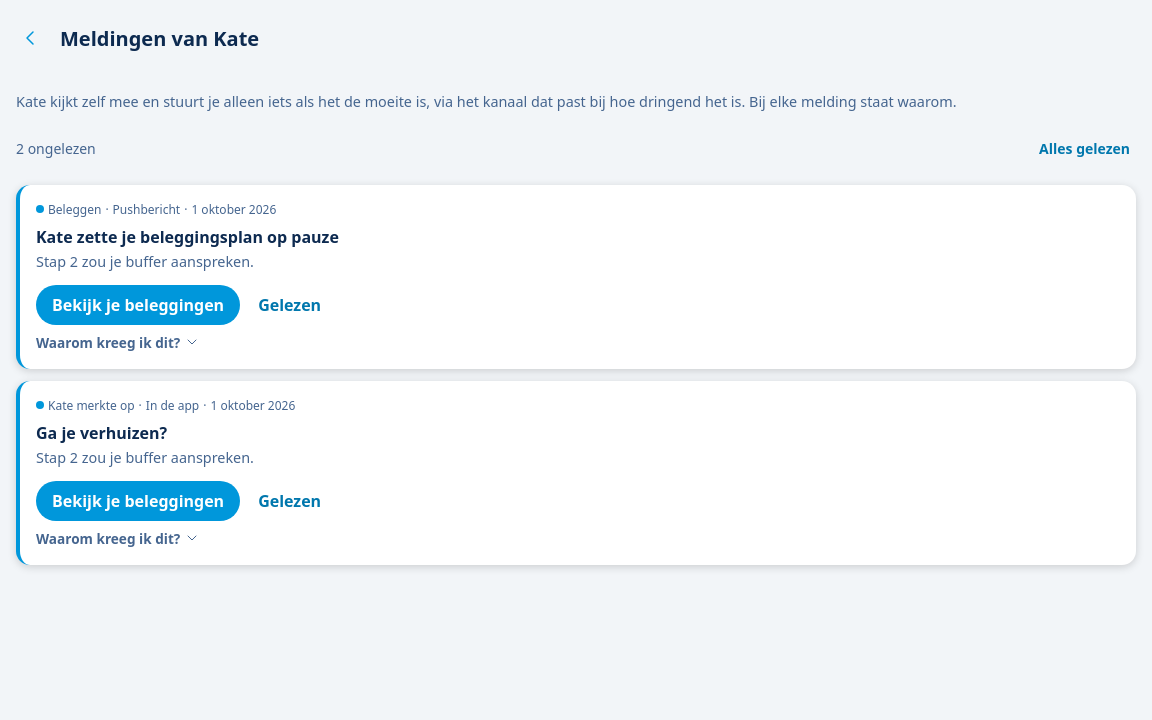
Test: Kate notifications › lists what Kate sent and explains why
The image size is (1152, 720).
Expected: the text "Ga je verhuizen?" is shown, [36,422,167,444]
Expected: the text "2 ongelezen" is shown, [16,139,96,158]
Click the button "Waarom kreeg ik dit?" below "Beleggen" at {"x": 118, "y": 342}, box [36,333,200,352]
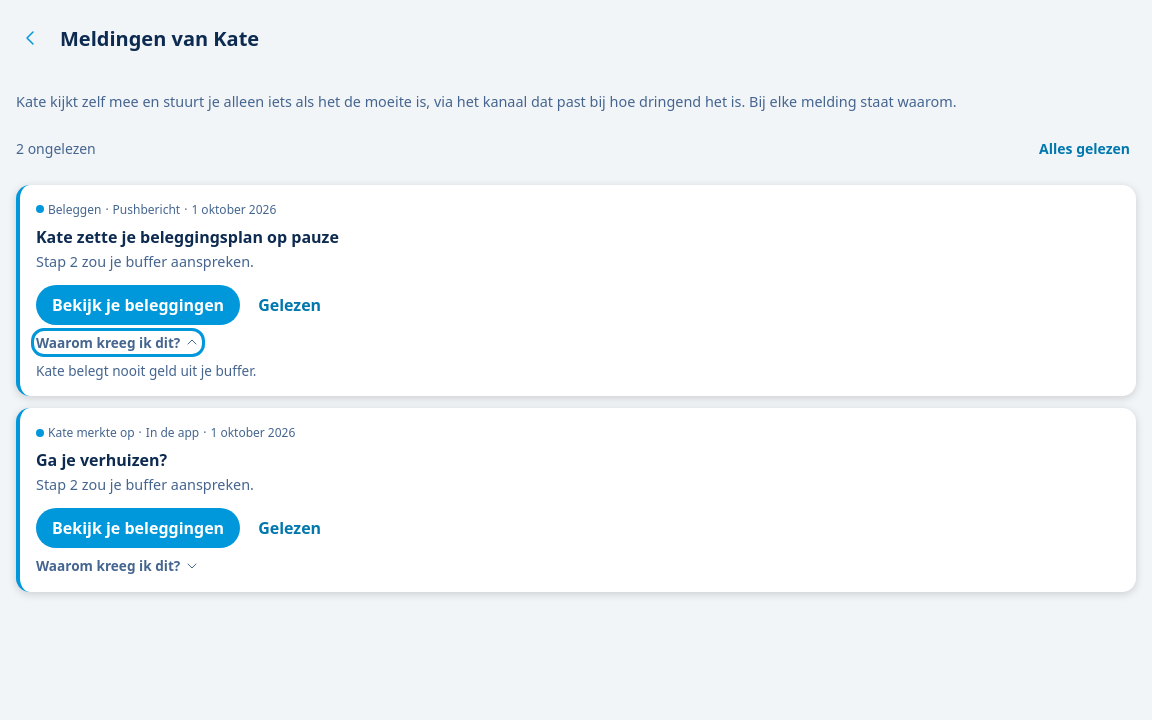
Now the text "Kate belegt nooit geld uit je buffer." is shown, box [36,361,256,380]
